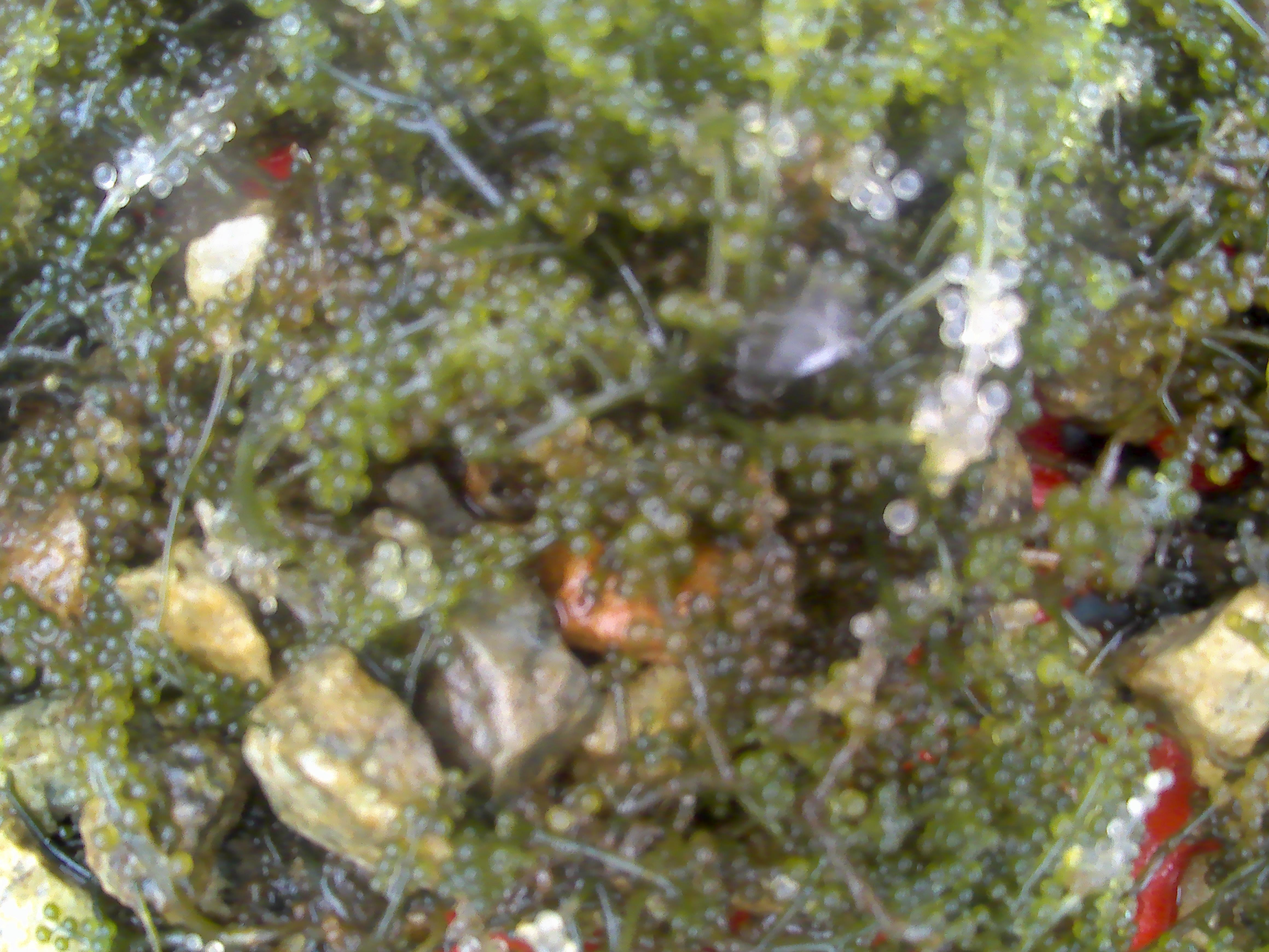Darkening: (660, 510, 693, 543), (684, 481, 714, 512), (1232, 252, 1262, 281), (1166, 261, 1196, 290), (1201, 254, 1230, 283), (809, 468, 837, 497), (376, 226, 405, 254), (722, 438, 749, 468), (1059, 420, 1087, 448), (1122, 301, 1149, 330), (1171, 297, 1200, 324), (419, 193, 448, 220), (292, 274, 319, 301), (407, 210, 435, 236), (520, 439, 553, 461), (1227, 283, 1252, 312), (548, 457, 578, 481), (639, 495, 665, 522), (1206, 295, 1228, 325), (811, 514, 836, 539), (1195, 372, 1220, 396), (1130, 336, 1154, 361), (731, 551, 755, 576), (289, 302, 313, 327), (772, 565, 798, 588), (568, 420, 591, 446), (872, 709, 896, 733), (772, 602, 796, 626), (741, 511, 765, 535), (732, 610, 757, 633), (791, 524, 814, 549), (672, 543, 696, 566), (402, 250, 427, 272), (1159, 433, 1181, 457), (1158, 334, 1182, 356), (817, 560, 841, 582), (837, 484, 859, 507), (741, 656, 767, 675), (754, 594, 776, 616), (1119, 359, 1143, 379), (879, 756, 900, 777), (93, 515, 114, 535), (266, 279, 288, 298), (819, 498, 839, 518), (1213, 407, 1233, 426), (318, 229, 337, 249), (857, 771, 875, 791), (580, 478, 599, 496), (115, 541, 134, 559), (774, 642, 791, 661), (231, 353, 247, 372), (274, 306, 292, 322), (618, 416, 634, 432), (266, 243, 282, 259), (257, 260, 272, 277)
Harvestable: (1066, 514, 1102, 552), (652, 291, 687, 328), (1034, 650, 1070, 685), (371, 432, 408, 465), (627, 199, 664, 231), (568, 46, 602, 78), (959, 552, 993, 584), (542, 32, 573, 66), (109, 492, 141, 524), (994, 527, 1024, 561), (1046, 809, 1078, 840), (720, 234, 751, 265), (123, 798, 153, 830), (1171, 488, 1203, 518), (604, 58, 638, 86), (470, 433, 500, 463), (1053, 346, 1082, 377), (410, 860, 441, 889), (104, 453, 133, 483), (965, 100, 993, 131), (1017, 397, 1046, 426), (526, 353, 555, 382), (545, 805, 574, 834), (796, 21, 826, 49), (624, 106, 651, 137), (584, 8, 613, 36), (952, 170, 981, 198), (537, 255, 566, 283), (340, 446, 369, 474), (419, 0, 450, 26), (1063, 676, 1094, 702), (742, 203, 768, 234), (909, 29, 937, 57), (336, 420, 365, 447), (925, 614, 952, 643), (281, 407, 308, 435), (98, 416, 125, 444), (770, 61, 797, 89), (1088, 282, 1116, 309), (627, 521, 655, 547), (169, 849, 195, 877), (613, 303, 640, 329), (979, 825, 1005, 852), (1083, 255, 1109, 282), (985, 766, 1013, 791), (868, 73, 893, 101), (949, 198, 978, 222), (665, 192, 689, 221), (338, 197, 364, 223), (432, 812, 457, 839), (1152, 0, 1177, 27), (530, 177, 555, 204), (365, 389, 390, 416), (947, 774, 973, 799), (905, 602, 930, 628), (468, 92, 494, 117), (72, 461, 98, 486), (844, 790, 868, 817), (1036, 718, 1063, 742), (570, 532, 595, 557), (1071, 919, 1096, 944), (985, 676, 1009, 702), (964, 130, 990, 154), (762, 31, 788, 55), (305, 473, 331, 497), (342, 148, 370, 170), (571, 498, 595, 523), (462, 56, 487, 80), (88, 670, 113, 694), (329, 474, 356, 496), (759, 746, 782, 771), (510, 22, 535, 45), (985, 878, 1010, 901), (983, 19, 1008, 42), (344, 385, 369, 408), (760, 779, 783, 803), (639, 411, 662, 435), (996, 560, 1019, 584), (789, 472, 813, 495), (451, 423, 475, 446), (510, 66, 534, 89), (1032, 801, 1055, 825), (302, 377, 326, 400), (320, 409, 344, 432), (71, 438, 96, 460), (94, 828, 119, 850), (847, 110, 868, 136), (0, 157, 19, 185), (1073, 826, 1096, 849), (670, 908, 693, 931), (923, 69, 946, 92), (1056, 90, 1079, 113), (1026, 823, 1050, 845), (309, 449, 334, 470), (689, 43, 712, 65), (572, 759, 594, 782), (150, 334, 172, 357), (1038, 780, 1061, 802), (973, 803, 995, 826), (144, 392, 166, 415), (75, 730, 98, 752), (112, 608, 134, 631), (1207, 464, 1231, 485), (103, 697, 127, 718), (967, 22, 988, 46), (387, 183, 411, 204), (10, 667, 37, 685), (331, 494, 353, 516), (574, 103, 596, 125), (1040, 879, 1062, 901), (387, 817, 409, 839), (1120, 186, 1141, 209), (177, 697, 198, 720), (219, 675, 242, 696), (115, 347, 138, 368), (1183, 29, 1203, 53), (311, 160, 336, 179), (463, 559, 485, 580), (504, 205, 525, 227), (447, 766, 468, 788), (18, 602, 39, 624), (65, 215, 87, 236), (10, 115, 30, 138), (39, 613, 59, 636), (1064, 48, 1083, 72), (139, 430, 163, 449), (354, 476, 372, 501), (1092, 931, 1113, 952), (821, 248, 842, 269), (290, 433, 311, 454), (1106, 779, 1126, 801), (247, 680, 267, 702), (1110, 263, 1130, 285), (223, 280, 243, 302), (1089, 814, 1108, 837), (114, 673, 133, 696), (204, 299, 224, 320), (453, 309, 473, 330), (778, 785, 798, 806), (956, 796, 976, 817), (347, 633, 367, 654), (363, 329, 383, 350), (194, 341, 214, 362), (2, 582, 22, 603), (18, 91, 36, 114), (777, 207, 797, 227), (748, 82, 769, 101), (385, 843, 406, 862), (131, 283, 152, 302), (24, 10, 42, 32), (904, 58, 926, 76), (1031, 898, 1049, 920), (420, 784, 442, 802), (645, 79, 665, 98), (445, 568, 464, 588), (440, 858, 460, 877), (1109, 7, 1128, 27), (173, 355, 193, 374), (80, 917, 100, 936), (82, 574, 101, 594), (67, 647, 87, 666), (21, 139, 39, 160), (5, 644, 26, 662), (126, 254, 144, 275), (1251, 99, 1268, 121), (670, 25, 689, 44), (751, 767, 770, 786), (744, 52, 763, 71), (828, 71, 847, 90), (951, 710, 970, 729), (1216, 926, 1235, 945), (1093, 63, 1112, 82), (1207, 42, 1226, 61), (1218, 59, 1237, 78), (151, 245, 169, 265), (613, 537, 631, 557), (1092, 44, 1112, 62), (108, 727, 128, 745), (74, 199, 94, 217), (11, 296, 31, 314), (0, 56, 16, 78), (0, 225, 14, 250), (1237, 518, 1256, 536), (711, 802, 730, 820), (1014, 772, 1033, 790), (720, 48, 738, 67), (39, 37, 58, 55), (1200, 63, 1218, 82), (1085, 23, 1104, 41), (227, 407, 246, 425), (561, 515, 581, 532), (377, 859, 397, 876), (136, 307, 153, 327), (106, 638, 127, 654), (131, 659, 152, 675), (379, 263, 397, 281), (354, 357, 372, 375), (77, 20, 95, 38), (160, 237, 178, 255), (176, 299, 195, 316), (106, 743, 126, 759), (693, 77, 711, 94), (957, 886, 974, 904), (1026, 268, 1044, 285), (369, 877, 387, 894), (97, 921, 116, 937), (109, 225, 128, 241), (1157, 934, 1177, 949), (142, 687, 160, 703), (154, 303, 172, 319), (45, 17, 60, 36), (203, 690, 219, 707), (336, 329, 353, 345), (146, 0, 162, 17), (53, 236, 70, 252), (42, 904, 60, 919), (92, 938, 111, 952), (437, 320, 453, 336), (677, 58, 692, 75), (0, 102, 11, 125), (53, 673, 72, 686), (672, 77, 687, 93), (172, 315, 188, 330), (1152, 90, 1167, 106), (81, 642, 97, 657), (105, 20, 122, 34), (63, 21, 77, 38), (0, 81, 11, 102), (0, 600, 12, 619), (35, 927, 50, 942), (63, 919, 78, 934), (133, 28, 147, 44), (135, 242, 150, 256), (726, 70, 740, 85), (54, 937, 69, 951), (43, 54, 59, 67), (392, 0, 421, 7), (1259, 76, 1269, 96), (88, 613, 102, 627), (40, 281, 53, 295), (667, 0, 687, 9), (0, 134, 9, 154), (89, 0, 108, 9), (1235, 86, 1248, 97), (1182, 943, 1196, 952)
Whitening: (965, 270, 999, 309), (882, 498, 919, 532), (768, 120, 800, 154), (891, 168, 922, 201), (979, 383, 1010, 415), (989, 337, 1019, 370), (941, 377, 972, 407), (735, 138, 765, 168), (943, 254, 972, 285), (997, 297, 1026, 328), (936, 291, 968, 319), (376, 575, 410, 601), (535, 909, 564, 939), (850, 182, 879, 211), (848, 612, 876, 642), (738, 102, 766, 132), (395, 521, 424, 548), (405, 545, 433, 572), (373, 541, 400, 568), (870, 192, 896, 220), (384, 40, 411, 65), (998, 260, 1022, 288), (92, 163, 117, 189), (846, 145, 872, 170), (939, 318, 964, 344), (165, 160, 189, 186), (873, 150, 896, 176), (149, 175, 172, 200), (201, 88, 224, 113), (996, 209, 1021, 231), (238, 571, 264, 592), (203, 557, 230, 577), (968, 349, 991, 372), (1079, 86, 1103, 108), (333, 85, 355, 108), (832, 178, 855, 200), (236, 545, 258, 566), (400, 598, 423, 618), (185, 98, 205, 120), (131, 153, 154, 172), (1124, 796, 1144, 817), (1107, 818, 1128, 838), (217, 120, 236, 142), (967, 435, 986, 457), (135, 134, 156, 153), (967, 416, 988, 435), (1094, 836, 1113, 856), (281, 14, 299, 35), (358, 0, 384, 14), (169, 113, 189, 131), (1122, 81, 1140, 101), (1142, 770, 1158, 792), (458, 936, 480, 952), (205, 134, 223, 153), (1119, 61, 1135, 82), (862, 134, 880, 152), (69, 300, 88, 317), (1119, 46, 1138, 62), (253, 552, 269, 571), (260, 597, 277, 614), (1159, 769, 1175, 786), (187, 934, 203, 951), (1110, 844, 1125, 861), (204, 941, 225, 952), (1140, 45, 1154, 61), (116, 149, 131, 163), (1139, 63, 1152, 79), (1145, 792, 1158, 807), (192, 123, 205, 138), (339, 0, 364, 6)
